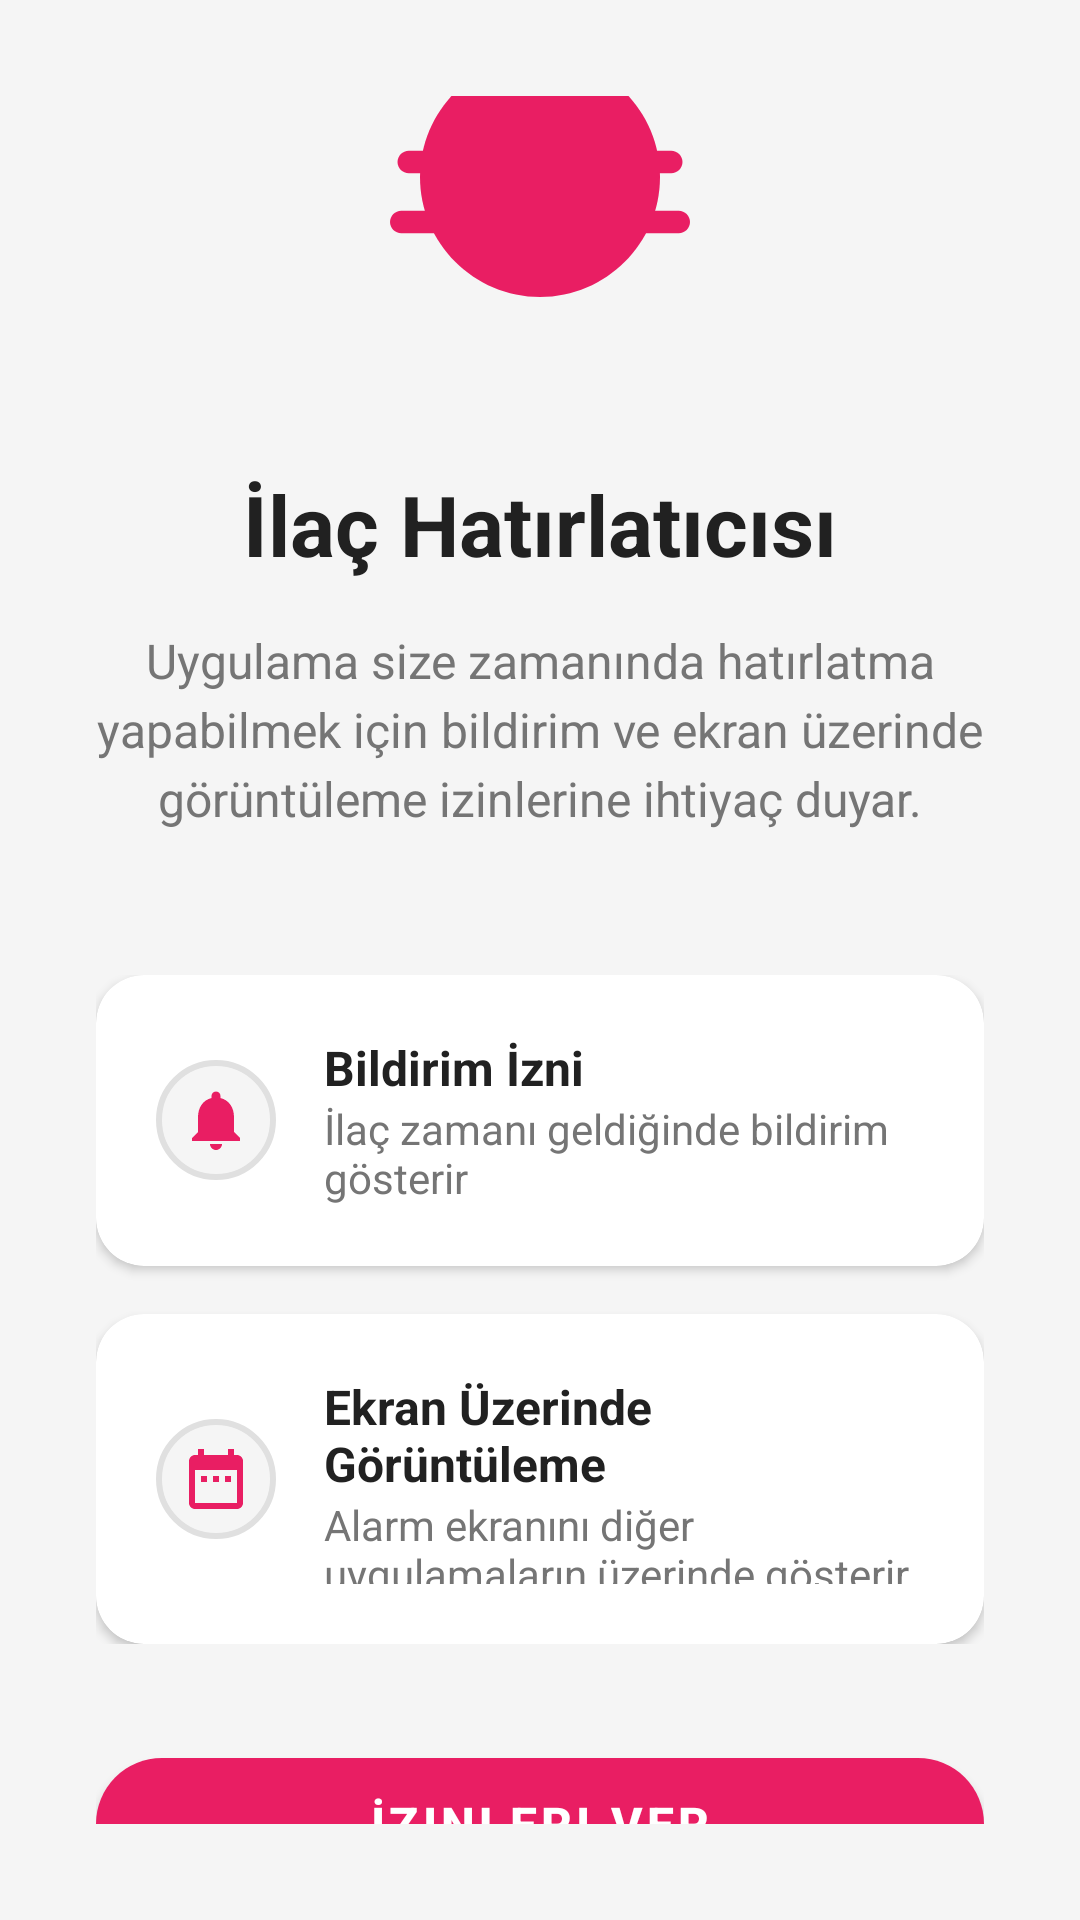

Point at icon controls on the screen. Image size 1080 x 1920, points as point (x, y).
calendar: point (216, 1479)
notification: point (216, 1120)
